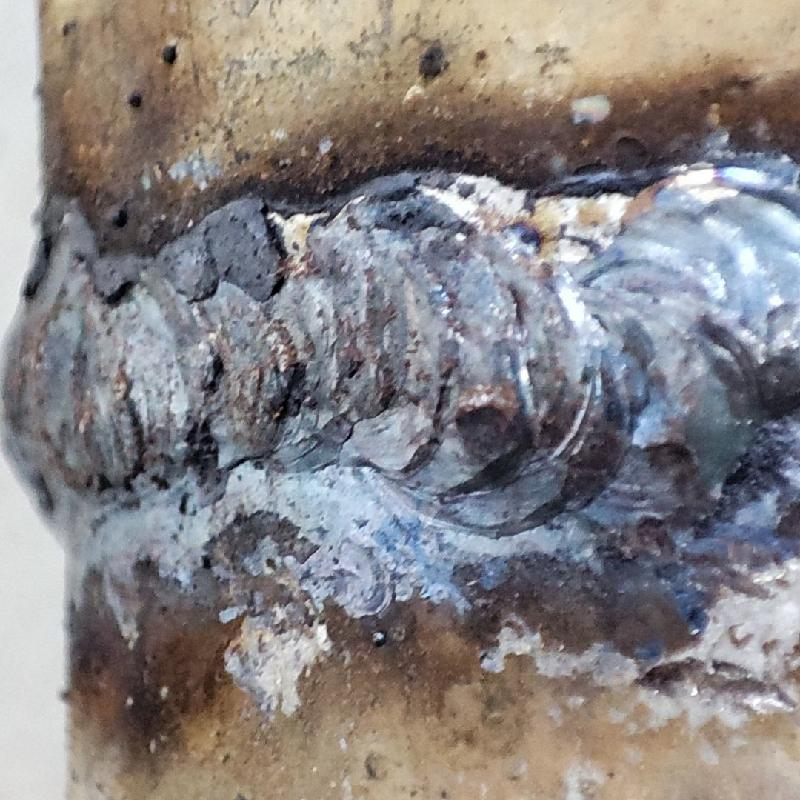good: (4, 191, 799, 537)
